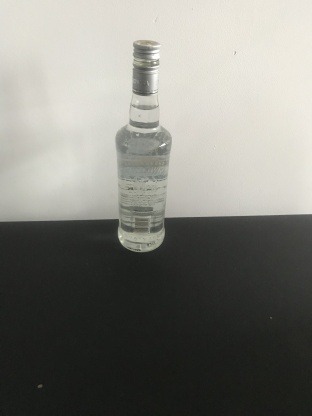nakretka: (131, 38, 161, 96)
